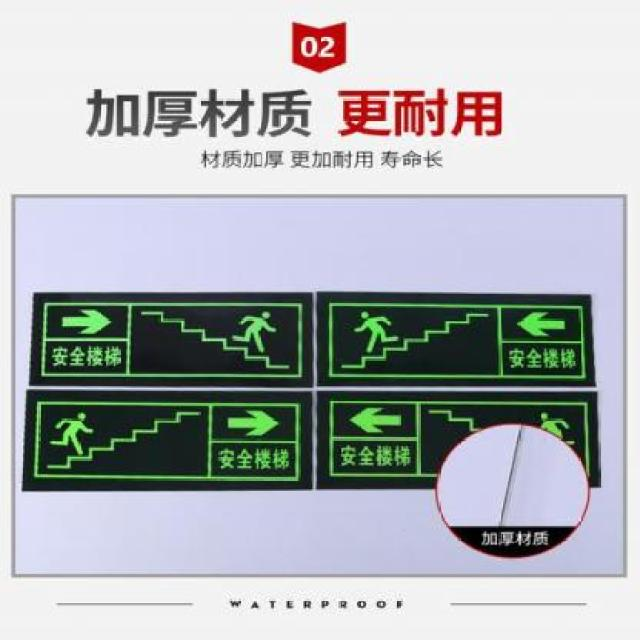exit_sign: (32, 283, 305, 399)
